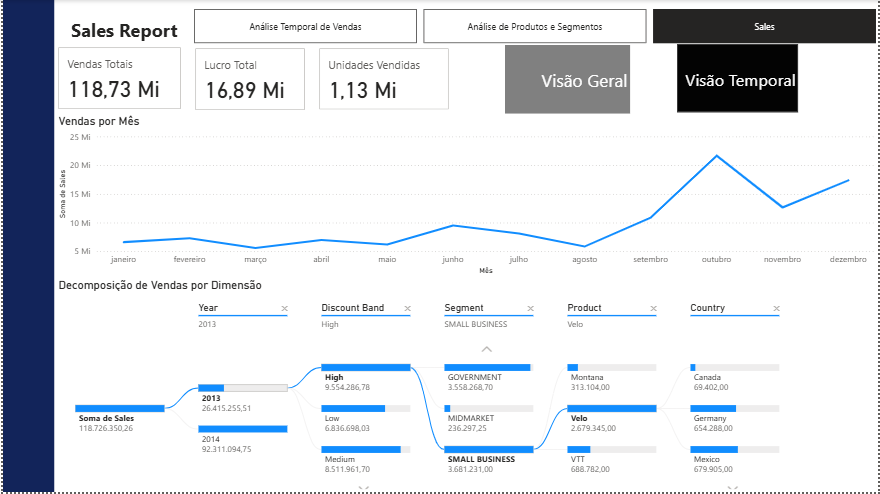

The page's visual inventory and layout, read from the dashboard file:
{"tool":"powerbi","page":{"name":"Sales","canvas":[1280,720],"ordinal":15},"visuals":[{"type":"shape","box":[0,0,75,720],"z":0},{"type":"textbox","box":[95,20,220,45],"z":1000},{"type":"cardVisual","title":"KPI Vendas Totais","fields":{"Data":["Sum(financials. Sales)"]},"box":[75.4,64.6,189.2,100],"z":2000},{"type":"cardVisual","title":"KPI Lucro Total","fields":{"Data":["Sum(financials.Profit)"]},"box":[276.6,65.9,170,100],"z":3000},{"type":"cardVisual","title":"KPI Unidades Vendidas","fields":{"Data":["Sum(financials.Units Sold)"]},"box":[458.3,65.5,199.7,99.8],"z":4000},{"type":"lineChart","title":"Vendas por Mês","fields":{"Category":["financials.Date.Variation.Hierarquia de datas.Ano","financials.Date.Variation.Hierarquia de datas.Trimestre","financials.Date.Variation.Hierarquia de datas.Mês","financials.Date.Variation.Hierarquia de datas.Dia"],"Y":["Sum(financials. Sales)"]},"box":[75.4,166.2,1204.6,240],"z":6000},{"type":"actionButton","title":"Botão Visão Geral","box":[734.8,66,183.2,100.1],"z":8000},{"type":"actionButton","box":[987,63.8,176.8,100.1],"z":9000},{"type":"decompositionTreeVisual","title":"Decomposição de Vendas por Dimensão","fields":{"Analyze":["Sum(financials. Sales)"],"ExplainBy":["financials.Year","financials.Discount Band","financials.Segment","financials.Product","financials.Country"]},"box":[75.4,406.2,1204.6,313.8],"z":10000},{"type":"pageNavigator","box":[279.9,13.1,1000,50],"z":12000}]}

Visuals, with their boxes in screenshot pixels (x1, y1, x2, y2), scaled from the page's 1280x720 canvas onto the 880x494 screenshot:
shape: [0,0,52,493]
textbox: [65,14,217,45]
"KPI Vendas Totais" cardVisual: [52,44,182,113]
"KPI Lucro Total" cardVisual: [190,45,307,114]
"KPI Unidades Vendidas" cardVisual: [315,45,452,113]
"Vendas por Mês" lineChart: [52,114,879,279]
"Botão Visão Geral" actionButton: [505,45,631,114]
actionButton: [679,44,800,112]
"Decomposição de Vendas por Dimensão" decompositionTreeVisual: [52,279,879,493]
pageNavigator: [192,9,879,43]
